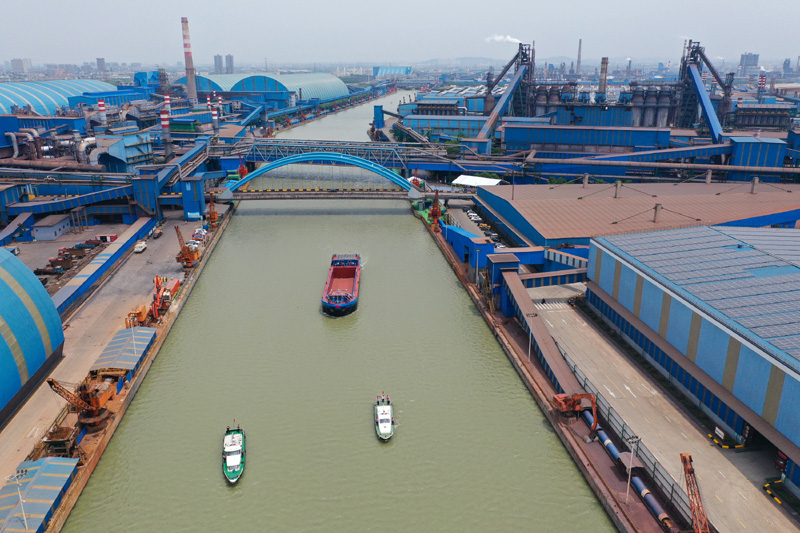boat: (315, 243, 369, 321), (215, 416, 255, 490), (367, 386, 402, 446)
